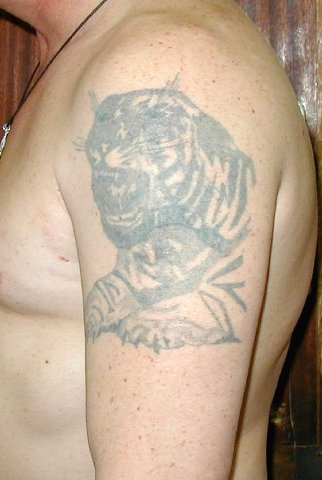tatu5_tigr: (80, 77, 255, 352)
